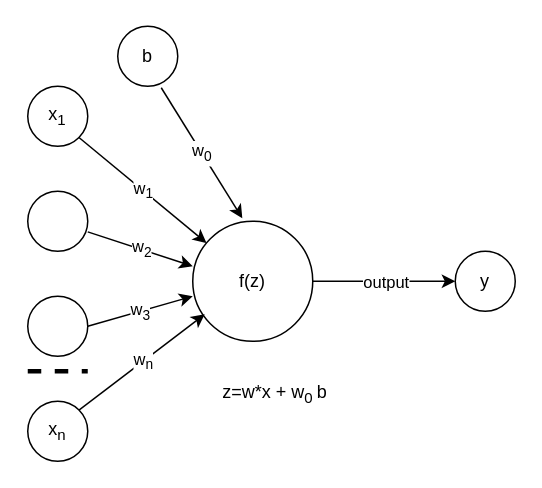
Some shapes in this 542 by 488 pixel diagram are drawn without their labels. Each missing label, with the centre of its shape:
"x 2" goes at pixel 57 220.
"x 3" goes at pixel 57 325.
